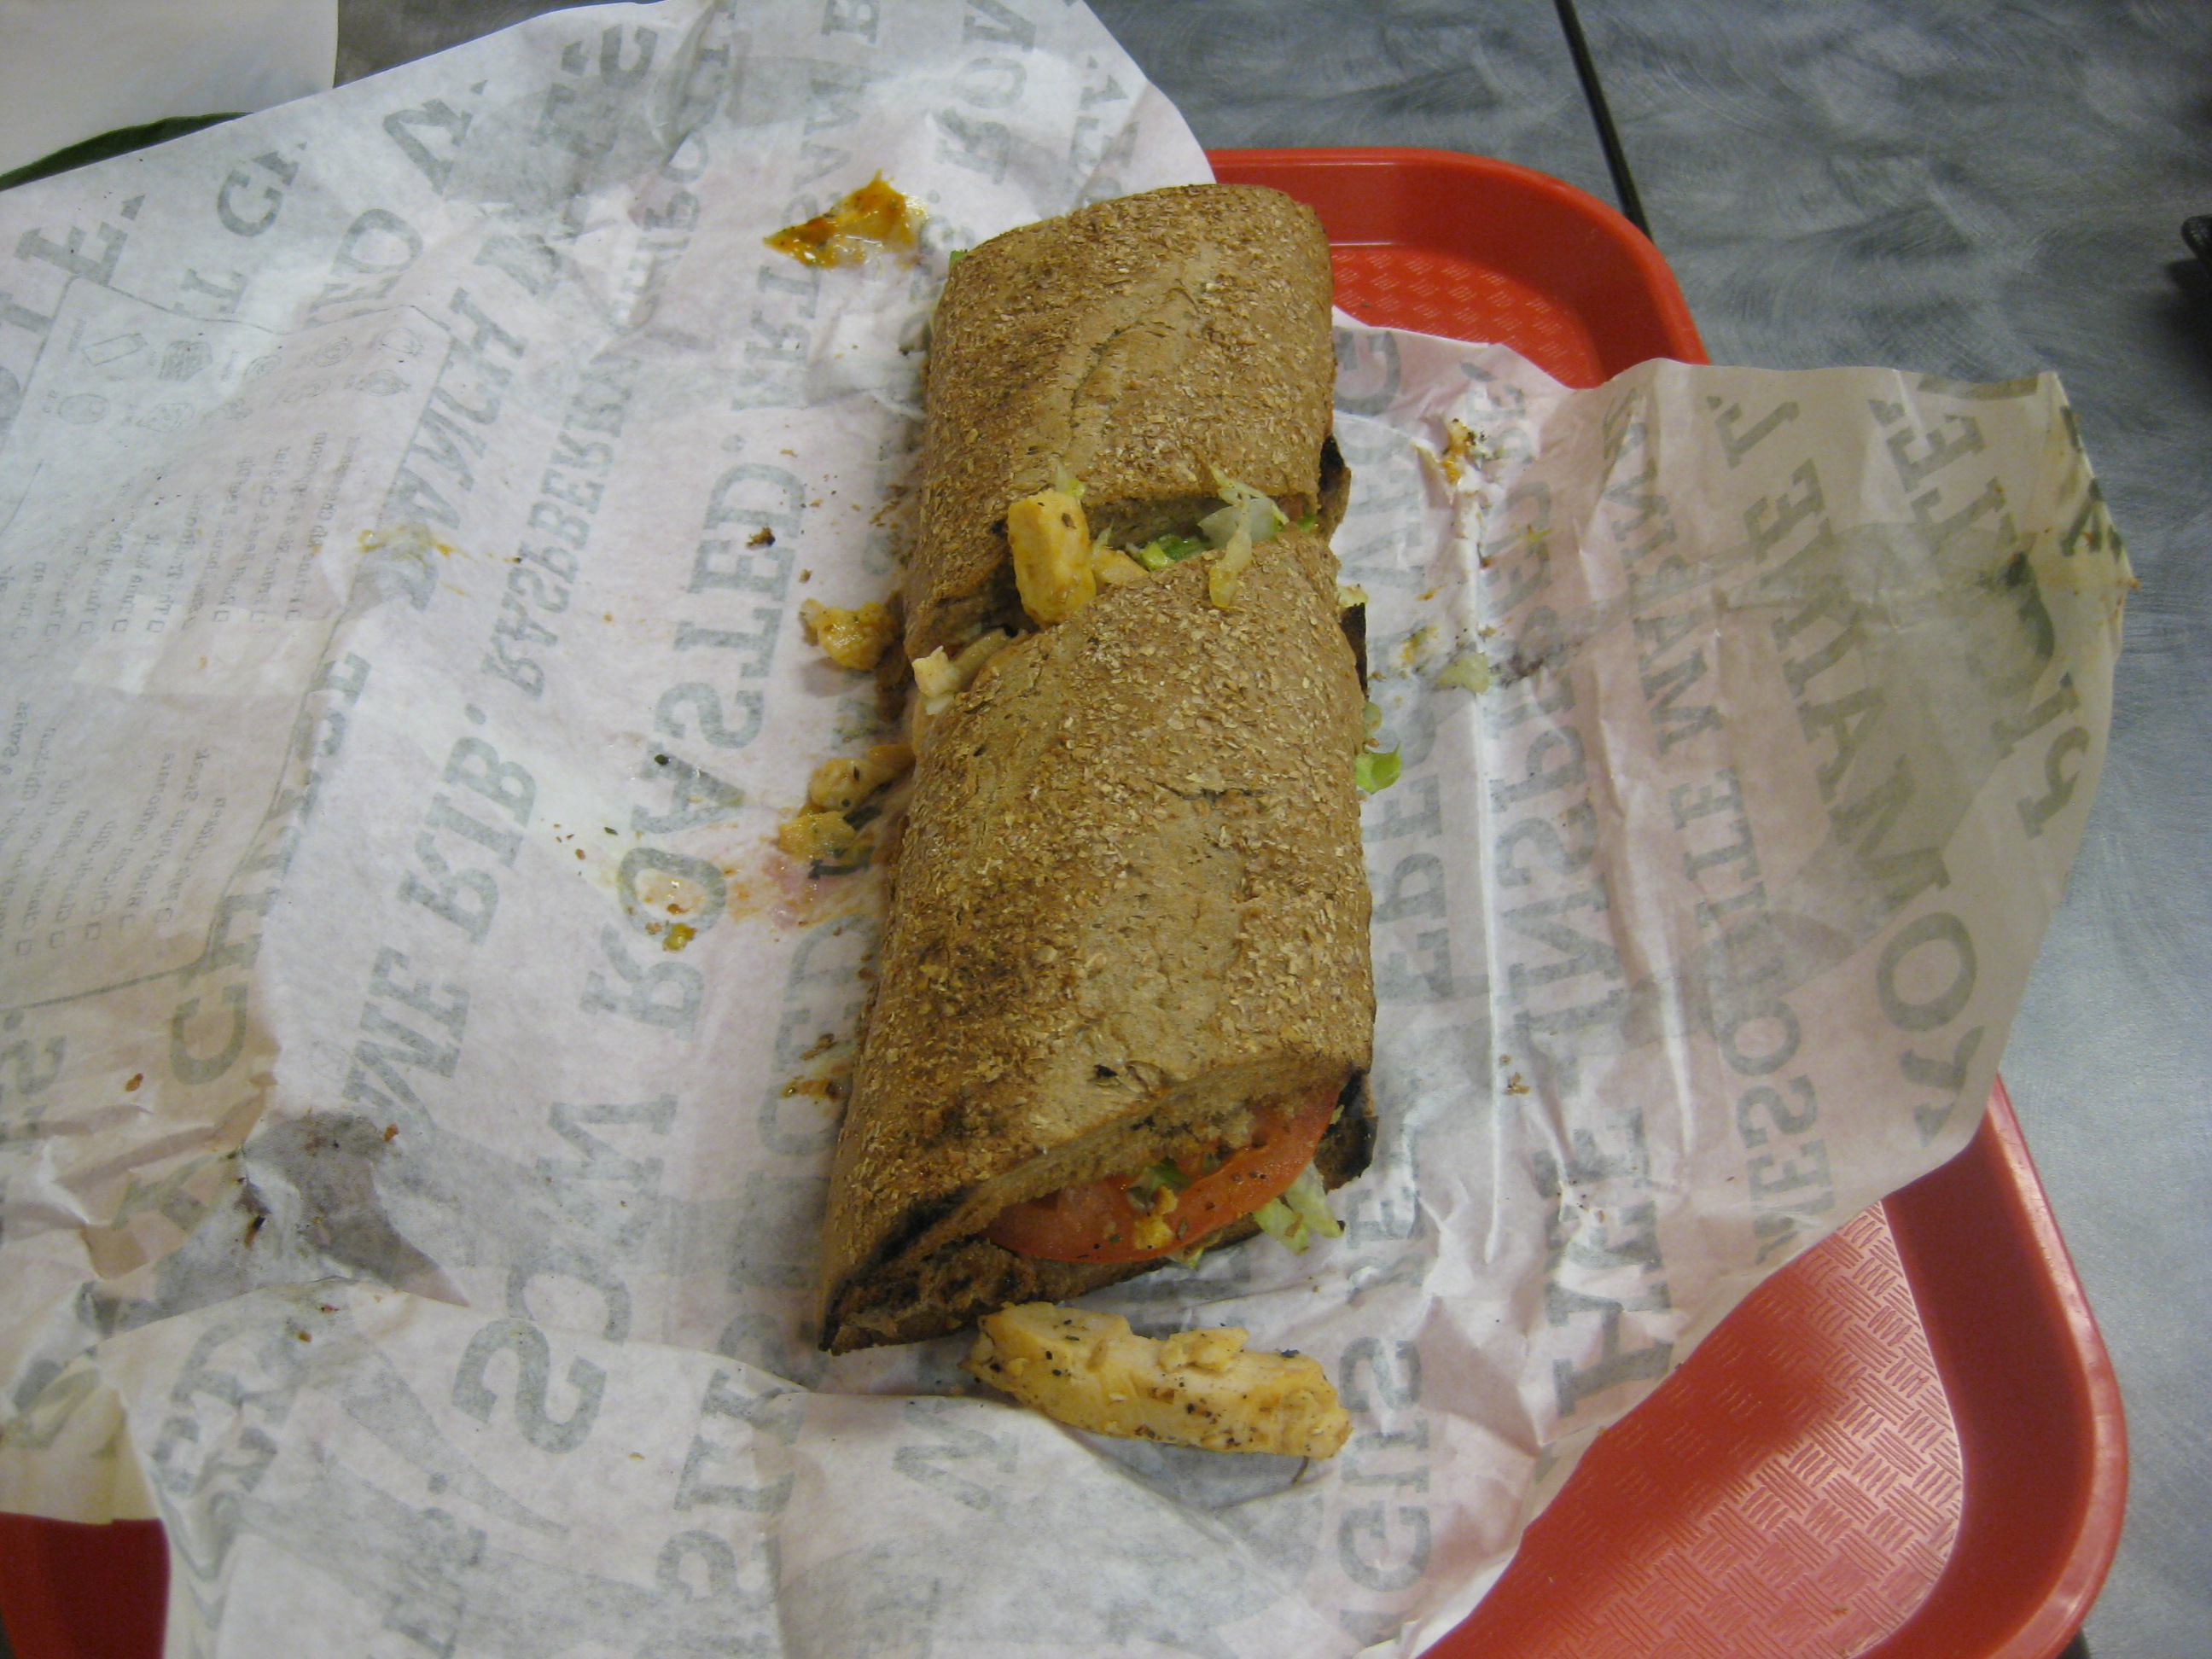sub: (801, 153, 1510, 1458)
